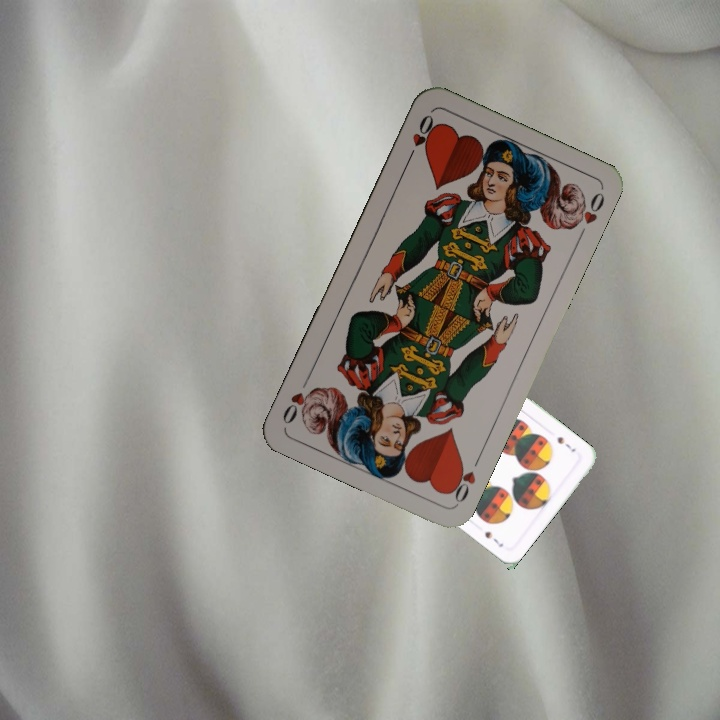HO: (444, 451, 484, 507), (403, 110, 439, 164)
S7: (553, 432, 578, 455)
